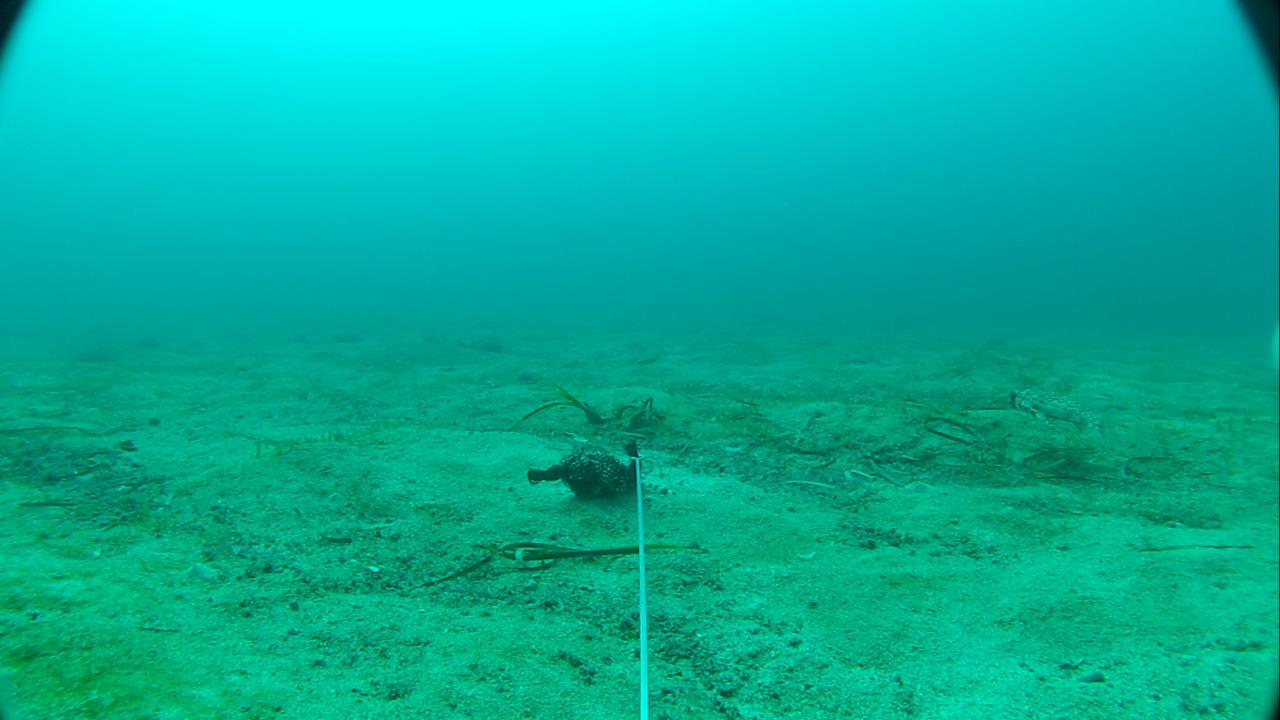dactylopterus: (1001, 377, 1109, 439)
